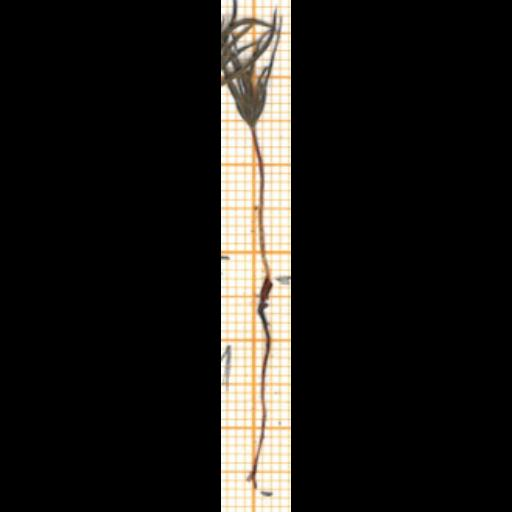flowerPinus: (228, 71, 269, 127)
rootPinus: (247, 279, 271, 488)
stemPinus: (253, 130, 270, 278)
